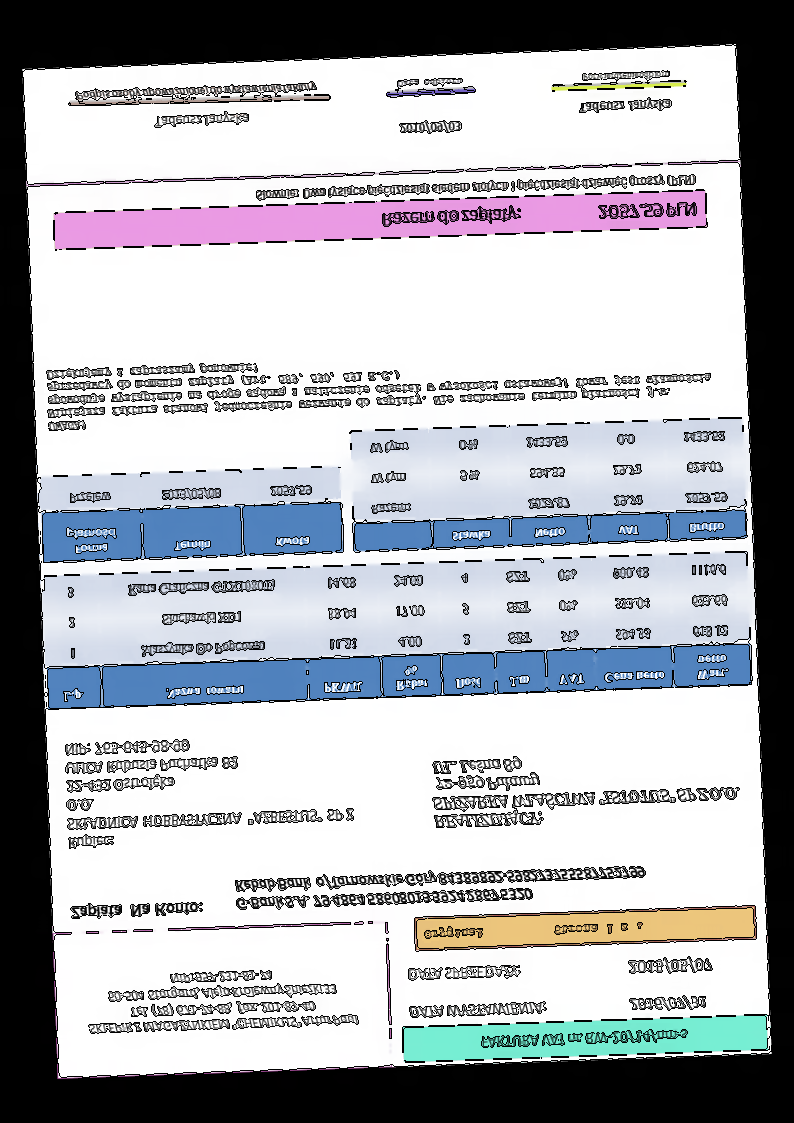Table: (42, 550, 753, 711), (348, 416, 747, 554), (38, 464, 345, 564)
TextBox: (44, 344, 717, 435), (61, 732, 357, 853), (427, 745, 744, 832), (82, 962, 361, 1041), (231, 862, 648, 914), (252, 171, 697, 205), (378, 198, 700, 234), (72, 79, 320, 107), (477, 1024, 690, 1055), (421, 917, 647, 945), (406, 999, 549, 1024), (69, 899, 204, 923), (405, 960, 523, 987), (624, 953, 716, 978), (577, 95, 675, 118), (152, 110, 251, 132), (626, 993, 708, 1015), (581, 67, 672, 84), (397, 118, 463, 139), (394, 74, 464, 91)
